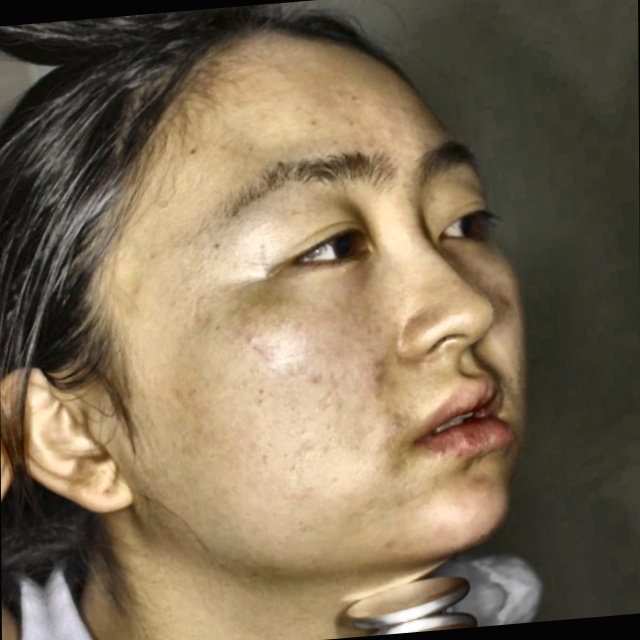comedone: (357, 351, 394, 396)
